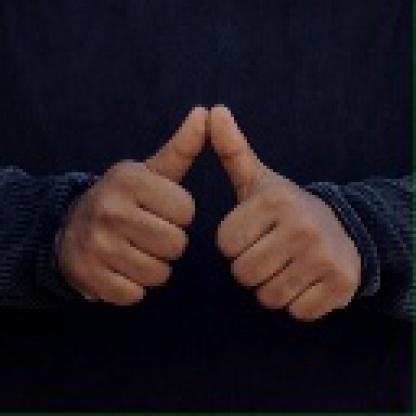A: (63, 96, 351, 322)
